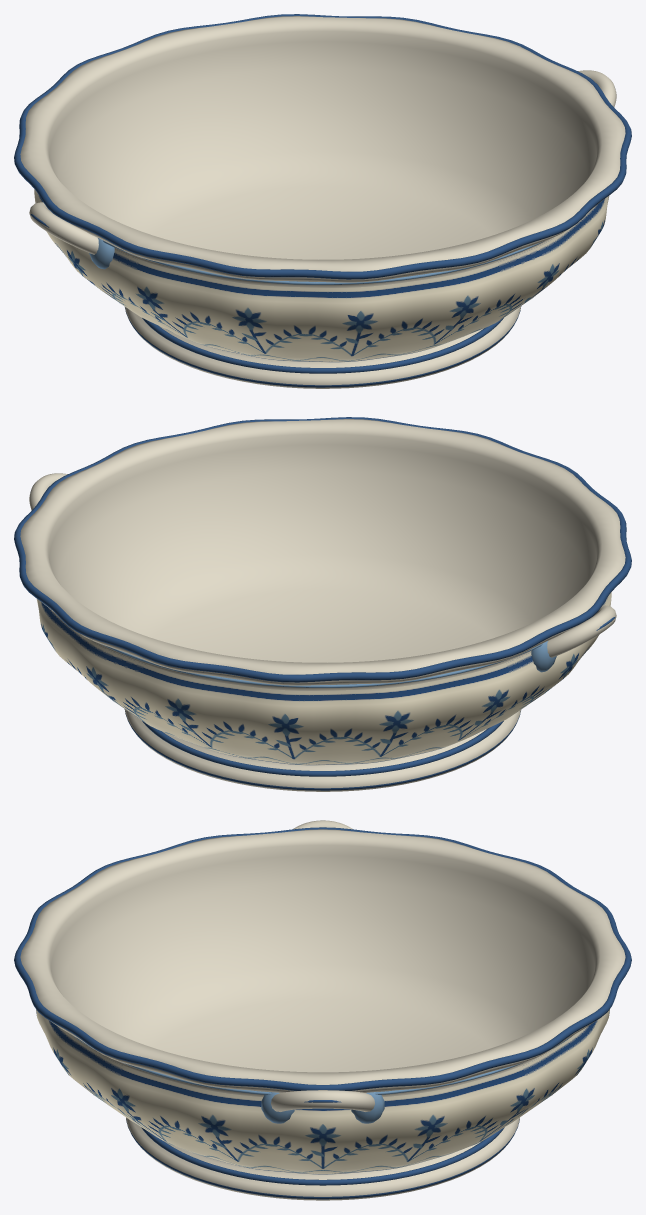
The model's file is bath-faience.glb.
The picture shows the model from 3 angles, top to bottom: view 1: azimuth 30°, elevation 25°; view 2: azimuth 150°, elevation 25°; view 3: azimuth 270°, elevation 25°; orthographic projection.
Visible parts, largest first — view 1: Faience bath; view 2: Faience bath; view 3: Faience bath.
Boxes of the visible parts, x1=… form: Faience bath: x1=14, y1=14, x2=631, y2=388; Faience bath: x1=14, y1=417, x2=631, y2=791; Faience bath: x1=14, y1=820, x2=631, y2=1200.
Bounding box in the file's own units: 1.2 × 0.333 × 1.13.
4 materials, 1 textured.
